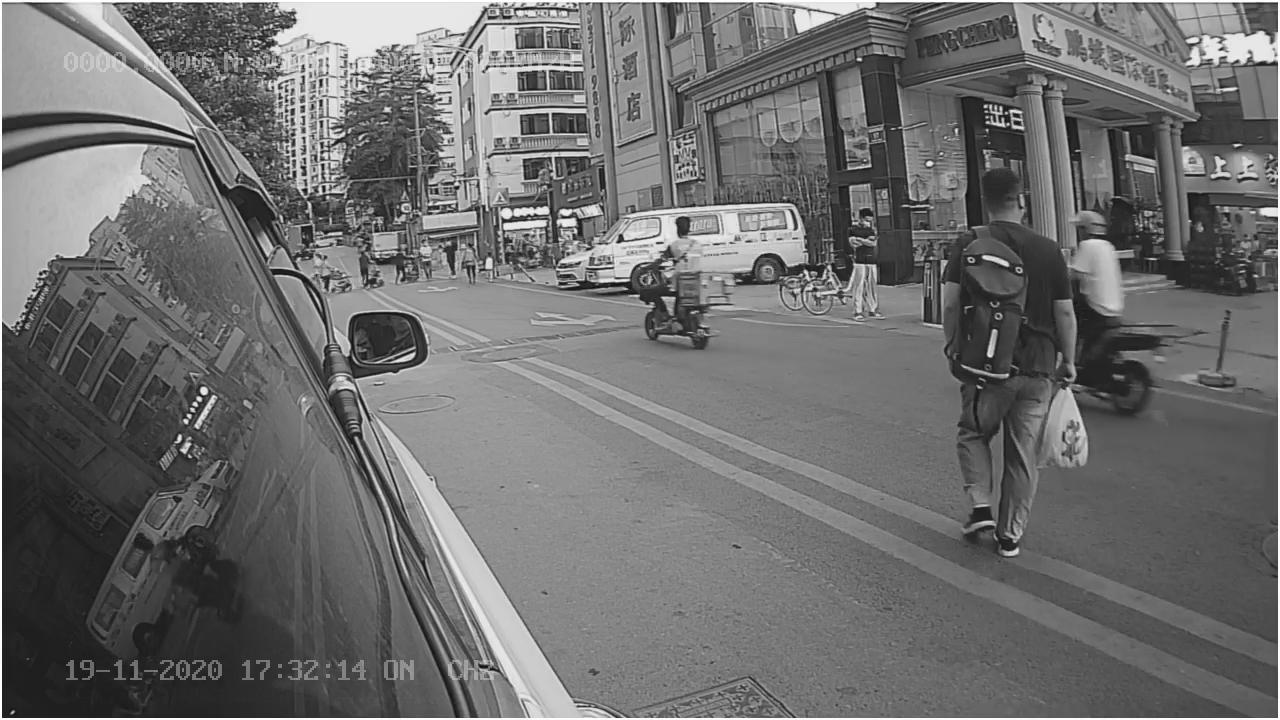person: (936, 164, 1056, 558)
